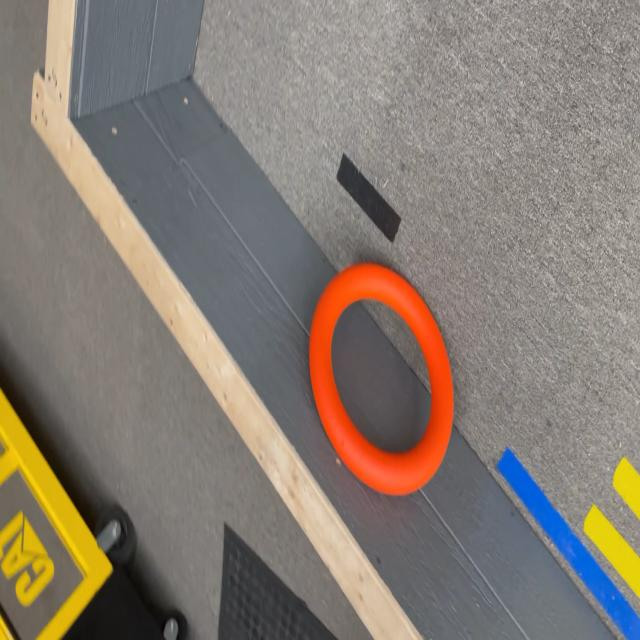note: (310, 264, 454, 496)
